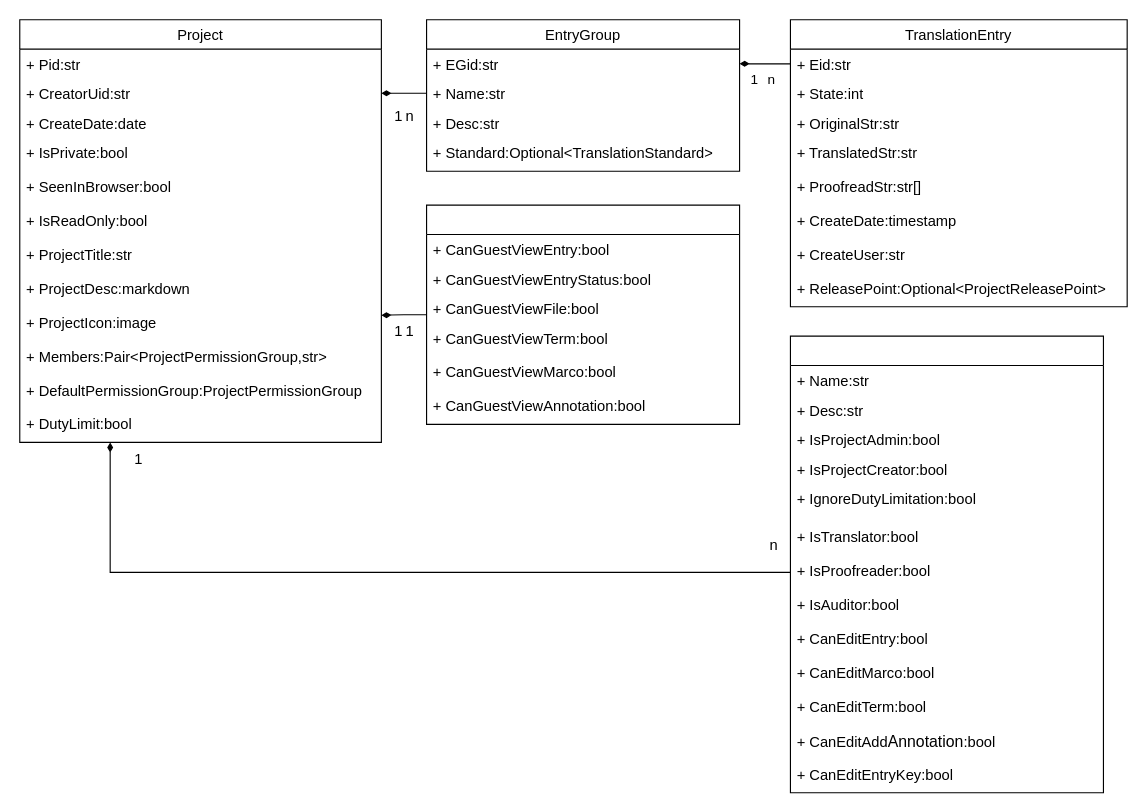
This 1147x812 diagram has some shape labels left out. The box of each missing label's shape, as (x1, y1, x2, y2) in pixels:
GuestConfig: (425, 204, 740, 424)
ProjectPermissionGroup: (789, 335, 1103, 793)
